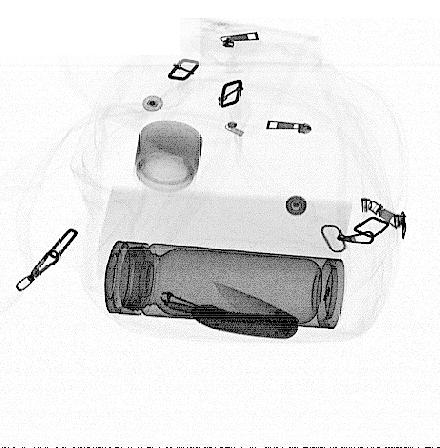Knife: (190, 283, 300, 340)
